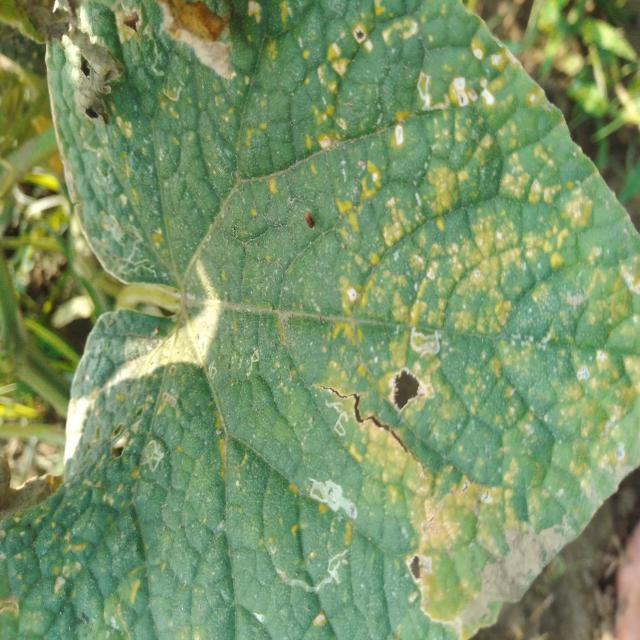cucumber_downy: (60, 2, 633, 638)
